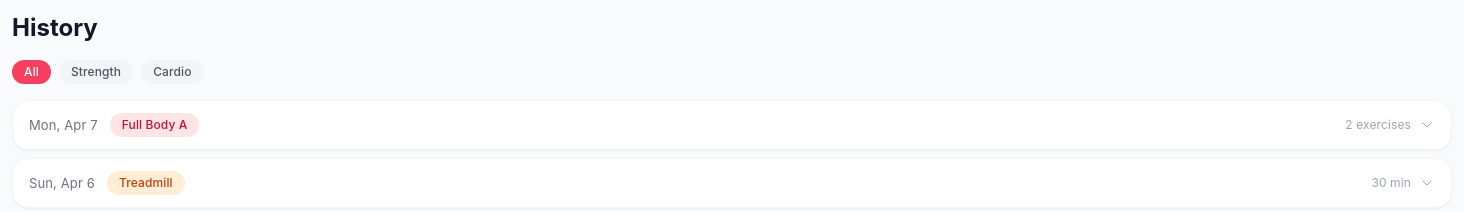
Test: History page › filter 'Cardio' hides strength entries
What coordinates should you click on to do the following:
click the button with test id "filter-cardio"
I would click on:
 (172, 72)
Its box is [141, 60, 204, 84].
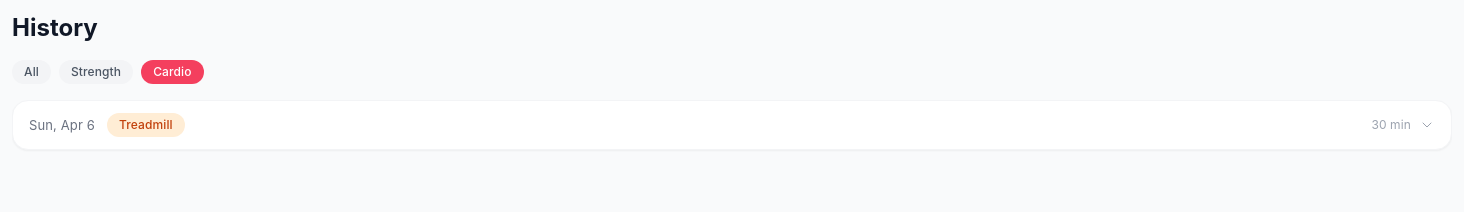
Check: the text "30 min" is shown, box [1371, 117, 1411, 133]
Check: the number of elements with test id "session-item" is 1, box [12, 100, 1452, 150]
